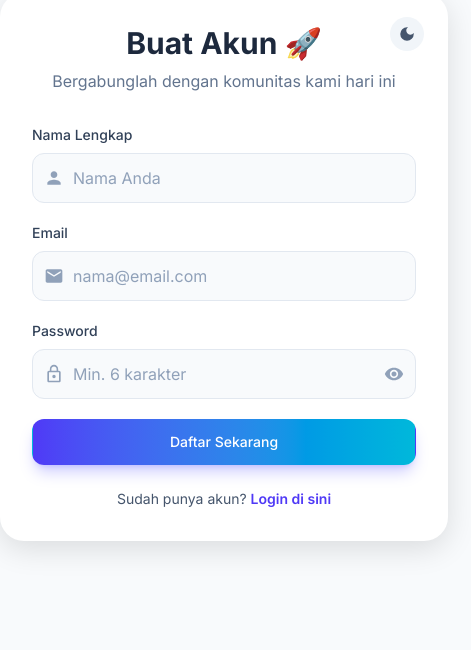
RegisterInput component › should show inline error when fields are empty
The image size is (471, 650).
Click the button "Daftar Sekarang" at (224, 442), box 32,419 -> 416,465
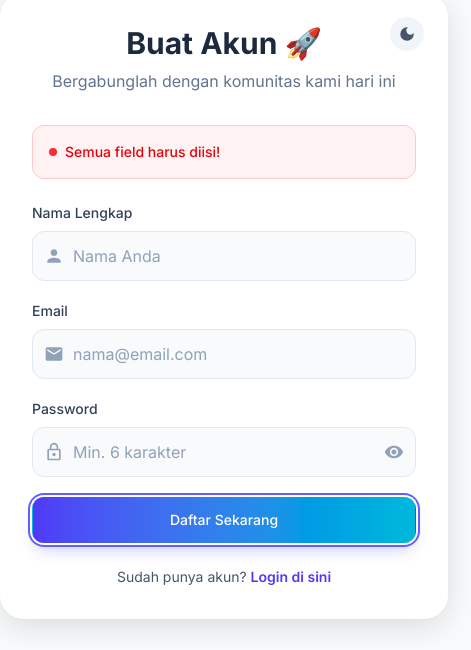
Expected: the text "Semua field harus diisi!" is shown, 32,125 -> 416,179
